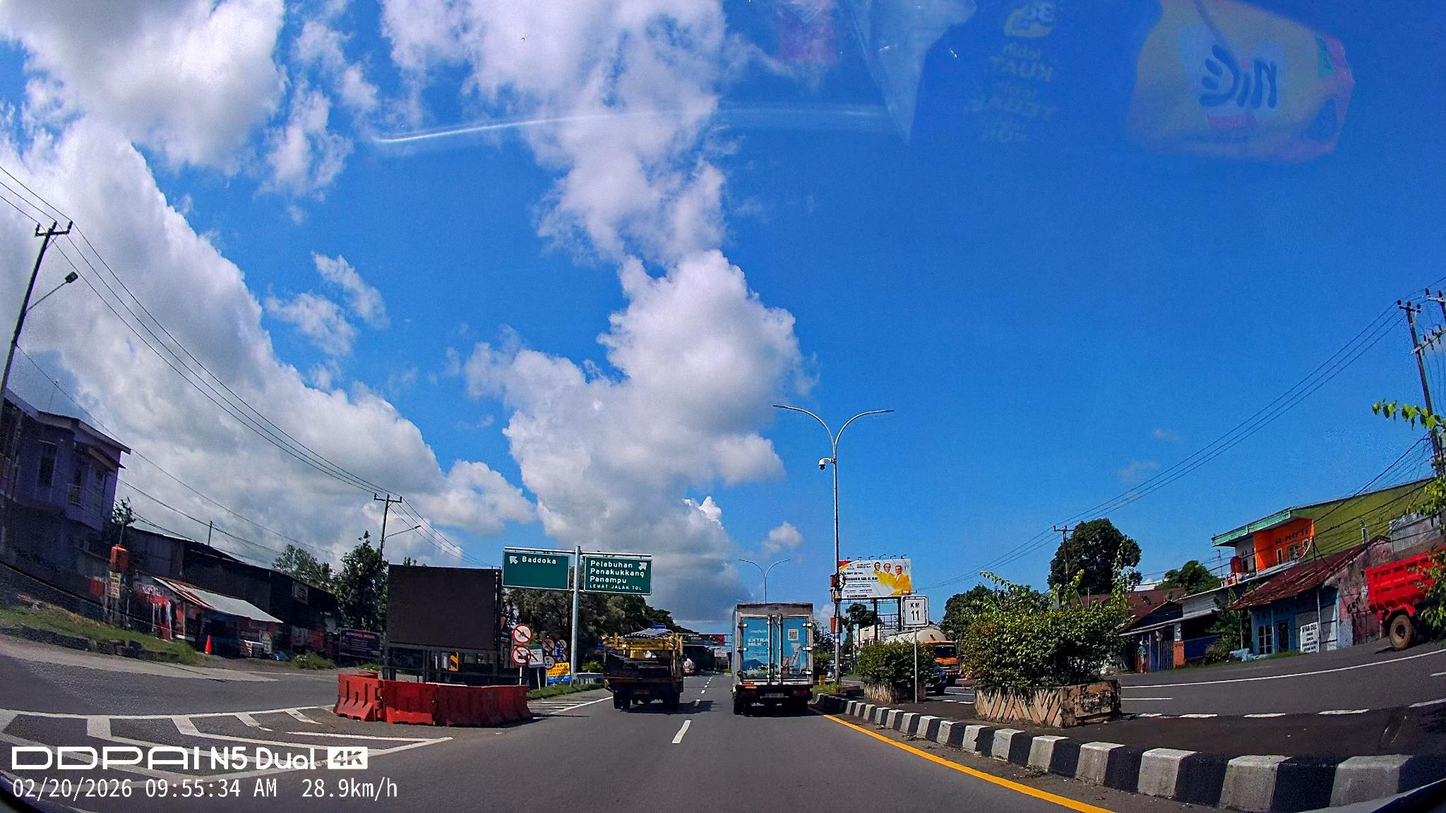rambu_teks: (501, 549, 570, 591), (584, 555, 653, 596)
